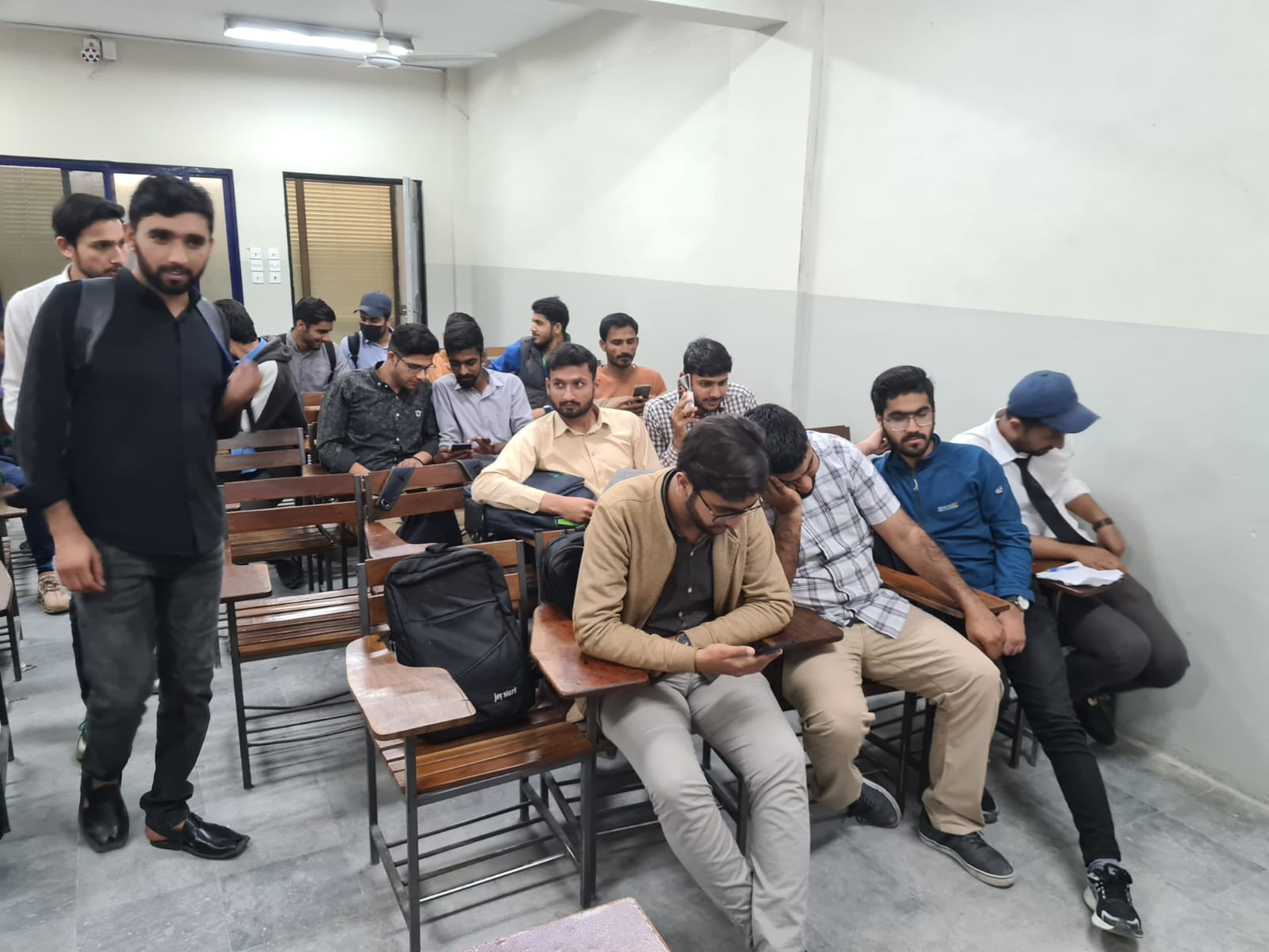non-cheating: (673, 412, 772, 542), (126, 167, 217, 301), (1002, 367, 1099, 463), (49, 189, 128, 282), (869, 361, 937, 461), (544, 342, 600, 420), (679, 337, 734, 415), (596, 309, 643, 372)
phone: (693, 634, 800, 684), (435, 434, 504, 465), (612, 382, 661, 415)
